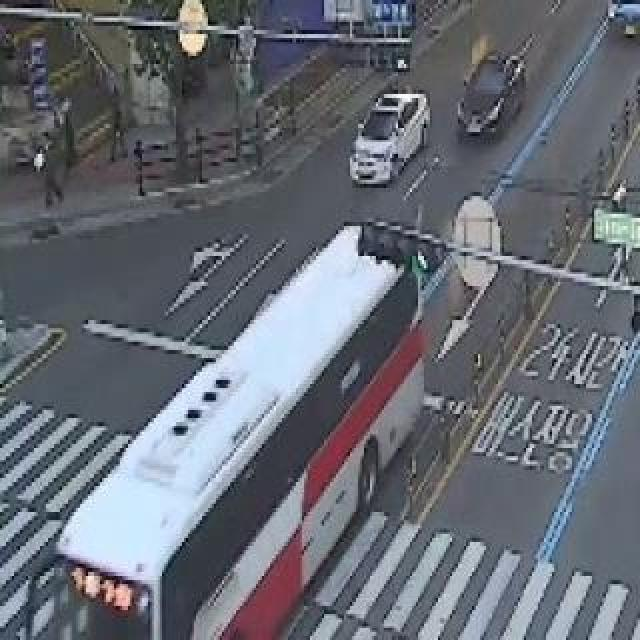car: (338, 84, 435, 185), (449, 47, 528, 140)
